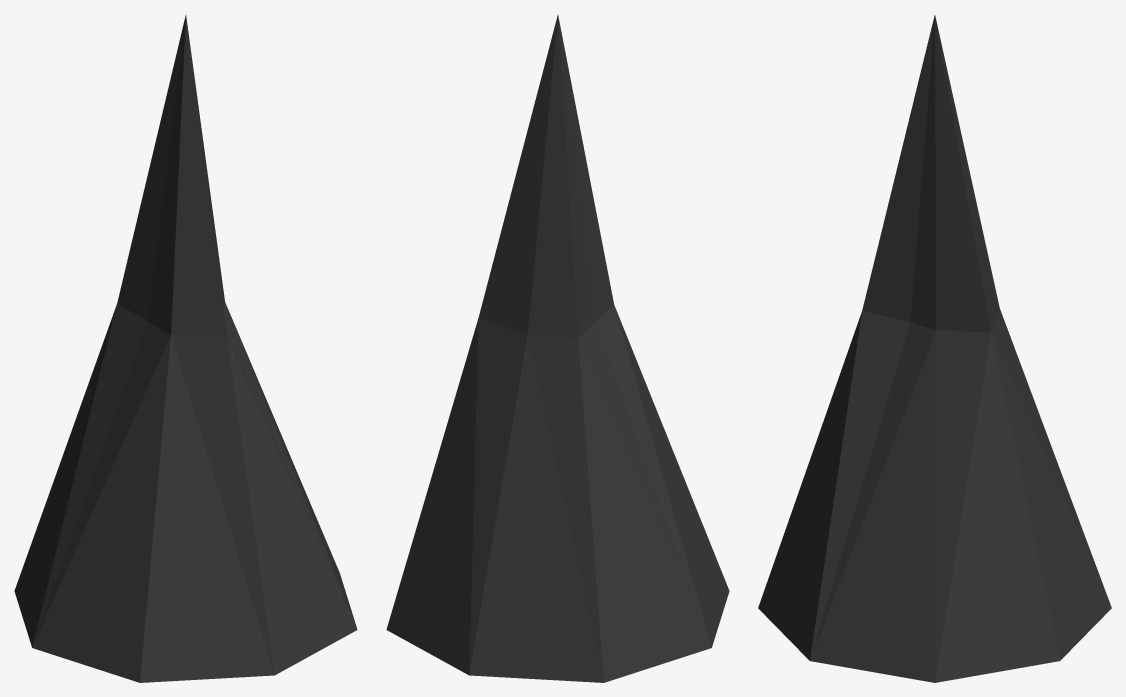
File: Stal_2B_LOD.fbx
3 renders of one model, left to right at view 1: azimuth 30°, elevation 25°; view 2: azimuth 150°, elevation 25°; view 3: azimuth 270°, elevation 25°, orthographic.
Visible parts, largest first — view 1: pCone28; view 2: pCone28; view 3: pCone28.
Part boxes in pixels (x1,y1,x2,y2): pCone28: (14,15,357,682); pCone28: (386,15,729,682); pCone28: (758,15,1111,682).
Bounding box in the file's own units: 0.81 × 1.5 × 0.81.
